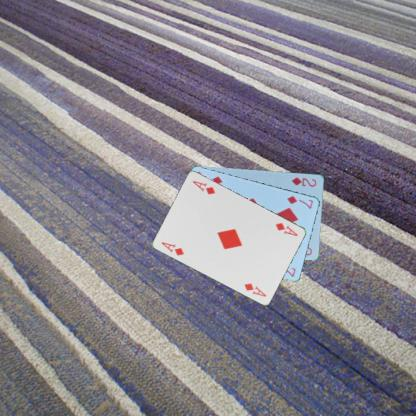2d: (289, 174, 317, 188)
7d: (285, 193, 314, 210)
Ad: (272, 220, 298, 238), (159, 239, 185, 257)
